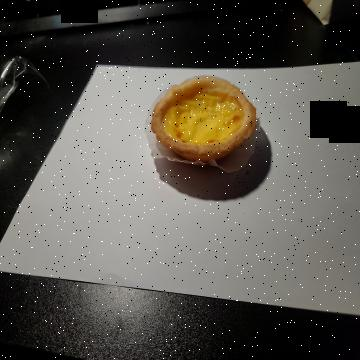EggTart: (151, 74, 256, 163)
